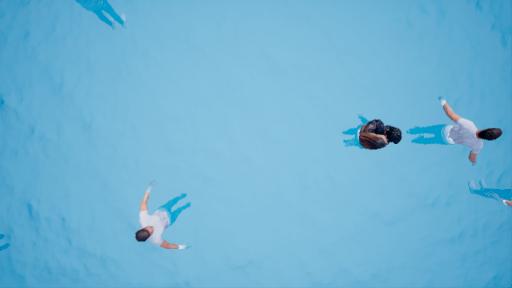person: (405, 94, 499, 164), (131, 179, 201, 251), (339, 113, 404, 154)
